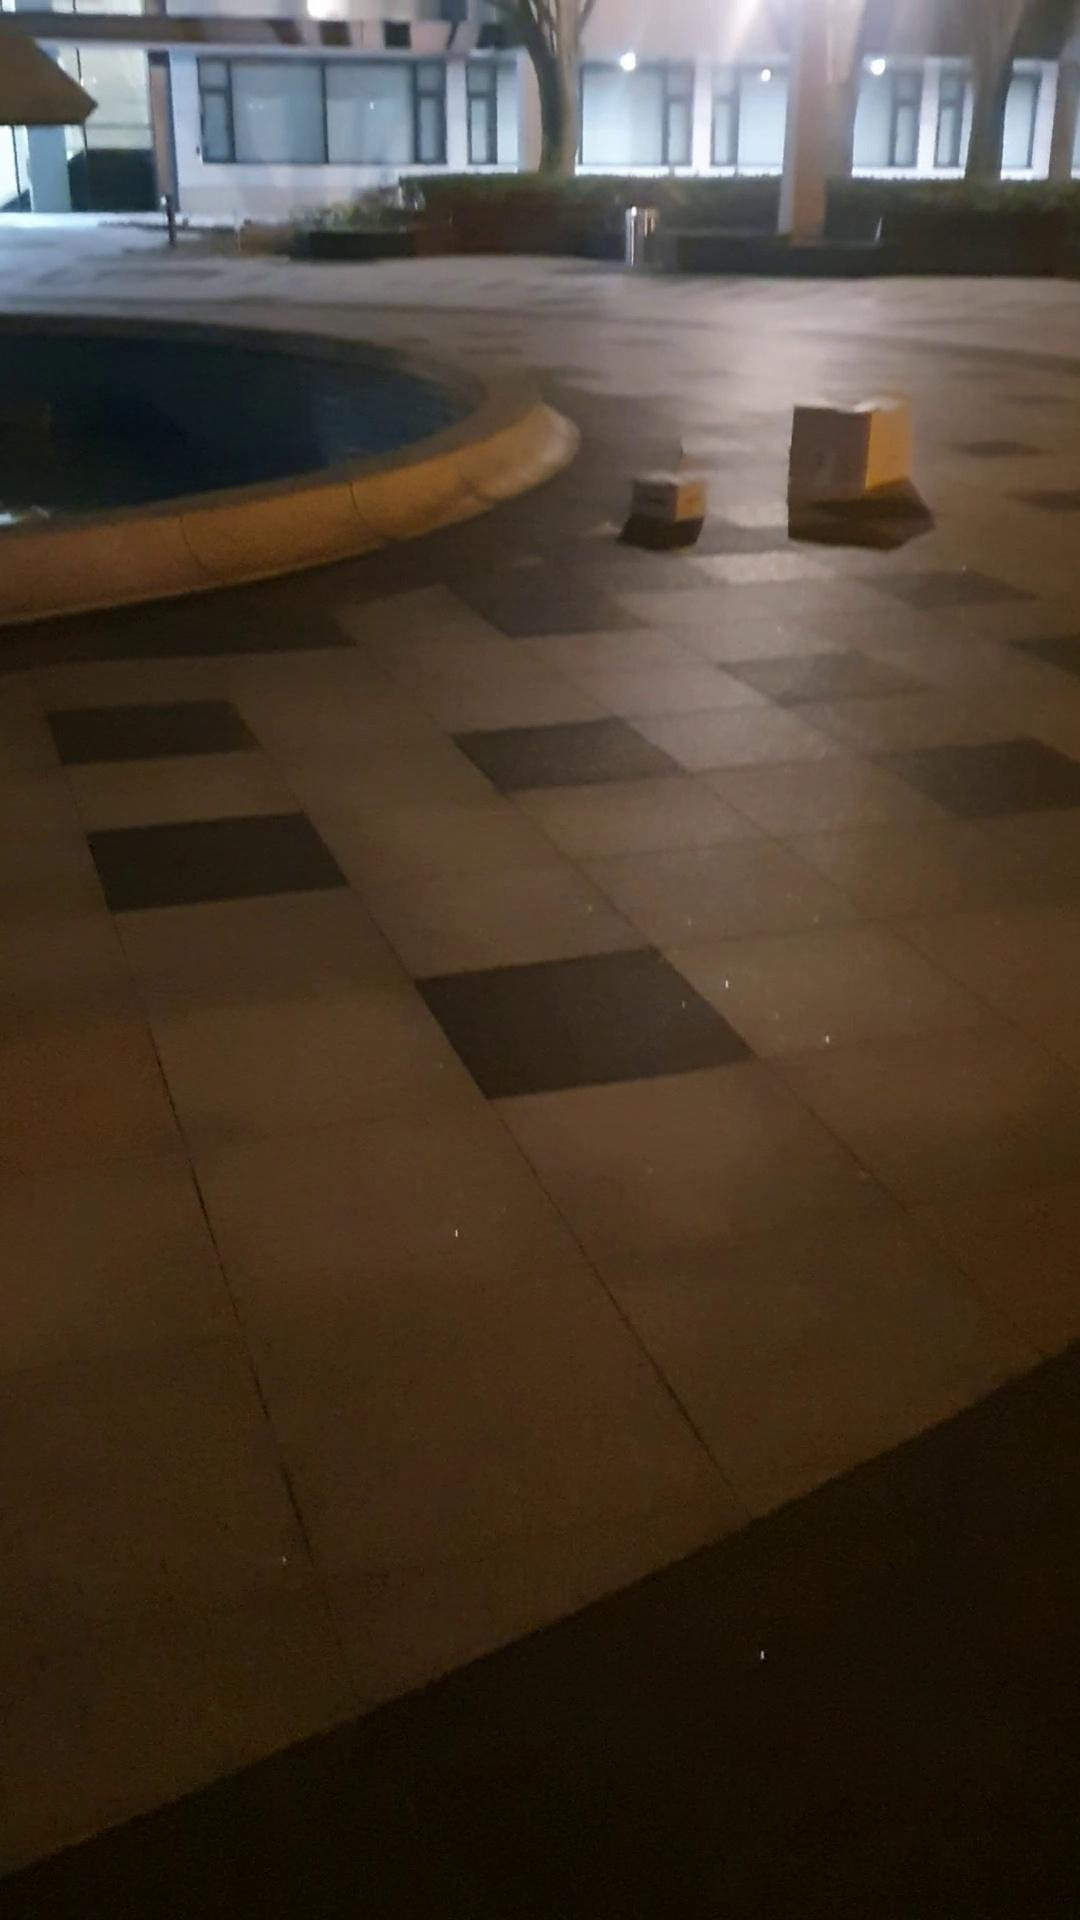Box: (786, 368, 924, 535), (622, 455, 709, 530)
